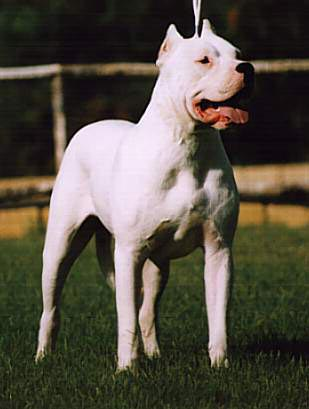dogo_argentino: (35, 17, 253, 371)
